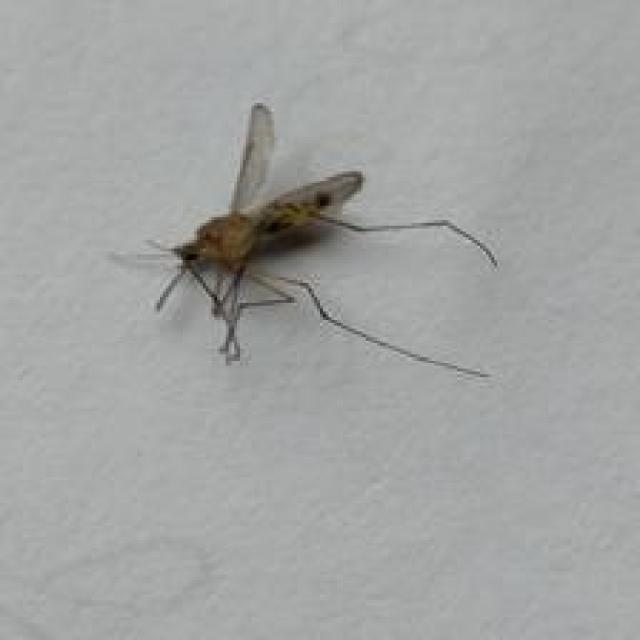Culex: (114, 100, 500, 380)
